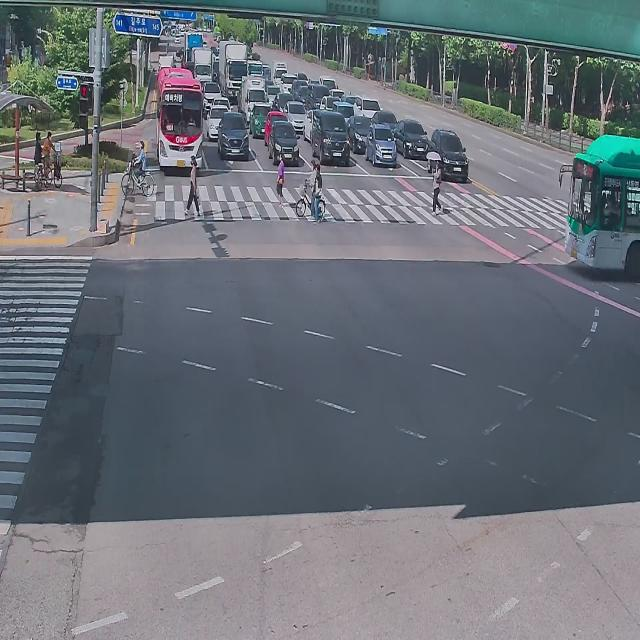Bus: (561, 127, 640, 289), (154, 64, 204, 172)
Car: (426, 128, 469, 183), (312, 108, 351, 165), (364, 124, 399, 170), (395, 115, 430, 159), (218, 111, 249, 160), (270, 121, 299, 165), (252, 103, 275, 138), (286, 102, 311, 133), (348, 115, 368, 151), (301, 106, 319, 140), (356, 93, 380, 118), (373, 109, 398, 130), (206, 106, 223, 134), (202, 78, 218, 106), (336, 102, 356, 124), (320, 96, 342, 112), (214, 94, 232, 110)
Truck: (216, 41, 248, 99), (238, 70, 262, 115), (192, 52, 212, 83)
